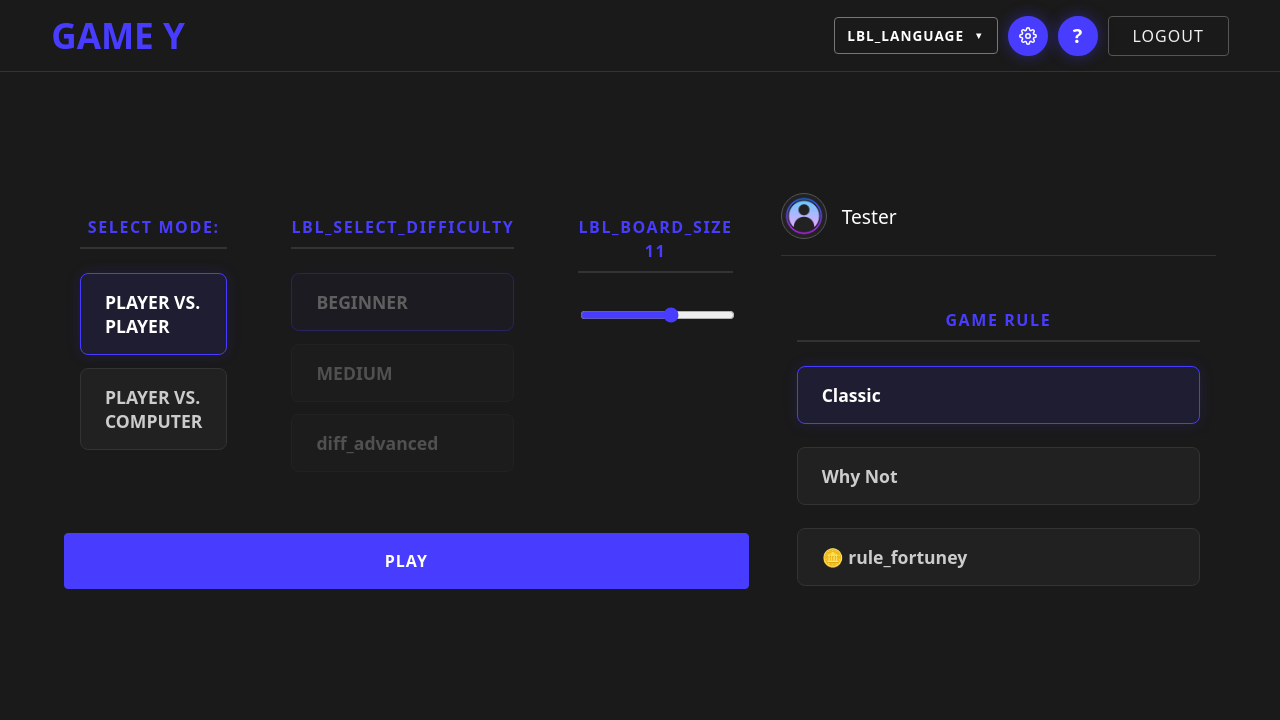
App & Lobby Coverage Booster › Lobby: Disables difficulty when PVP is selected
Expected: the button "BEGINNER" is disabled, [292,273,514,331]
Note: Switch to PVC
Click the button "PLAYER VS. COMPUTER". click: click(154, 408)
box: [80,368,228,450]
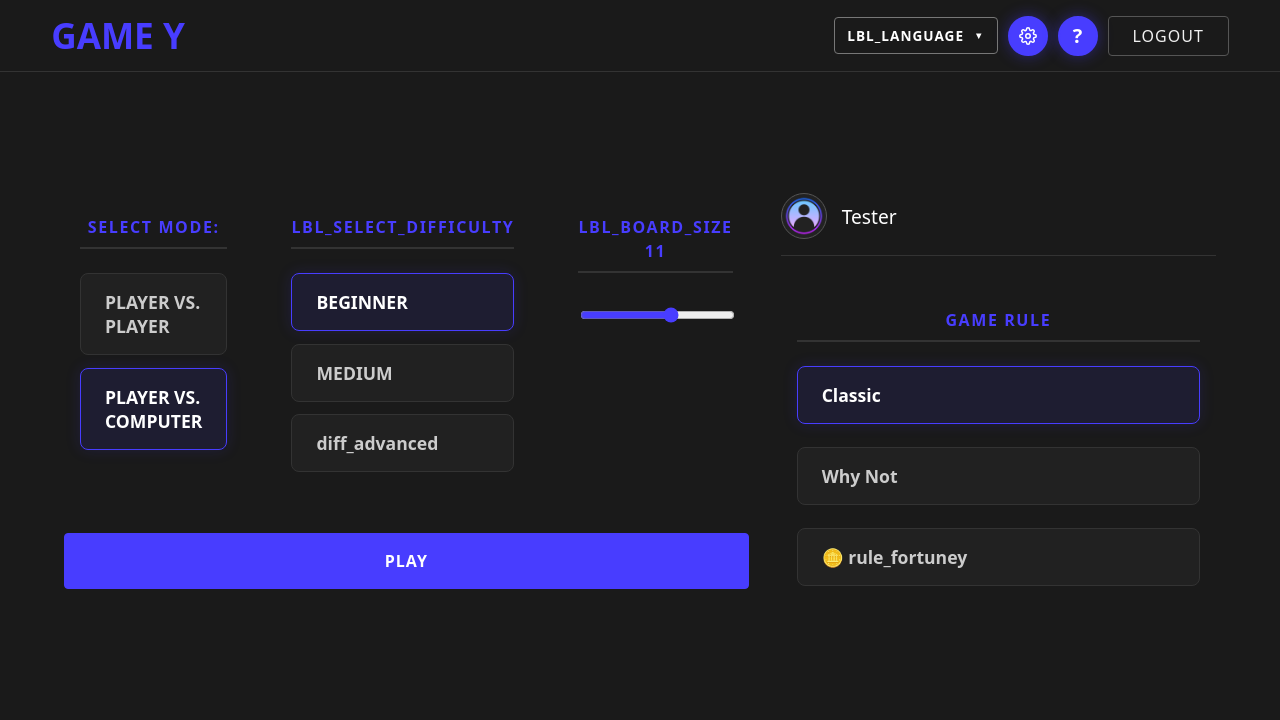
Expected: the button "BEGINNER" is enabled, [292,273,514,331]
